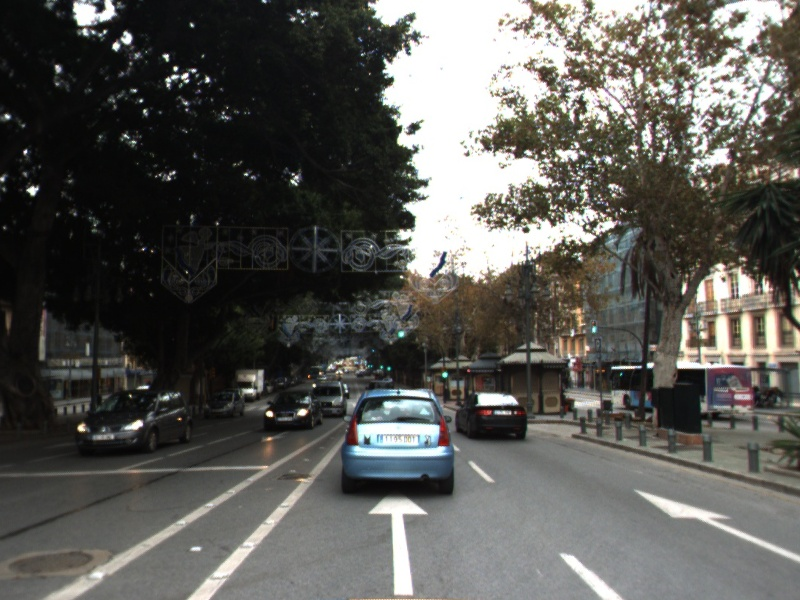STRAIGHT: (630, 487, 800, 564), (365, 489, 432, 598)
